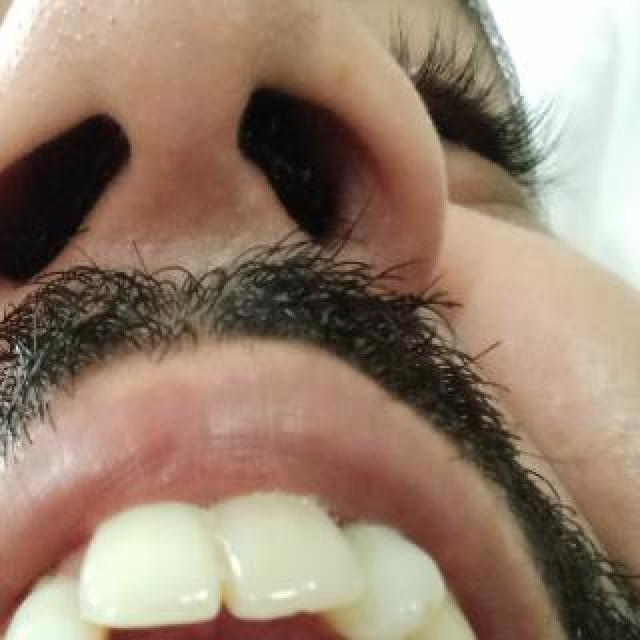maligned: (206, 484, 358, 640), (330, 510, 456, 640), (98, 516, 230, 640), (0, 574, 112, 640)
